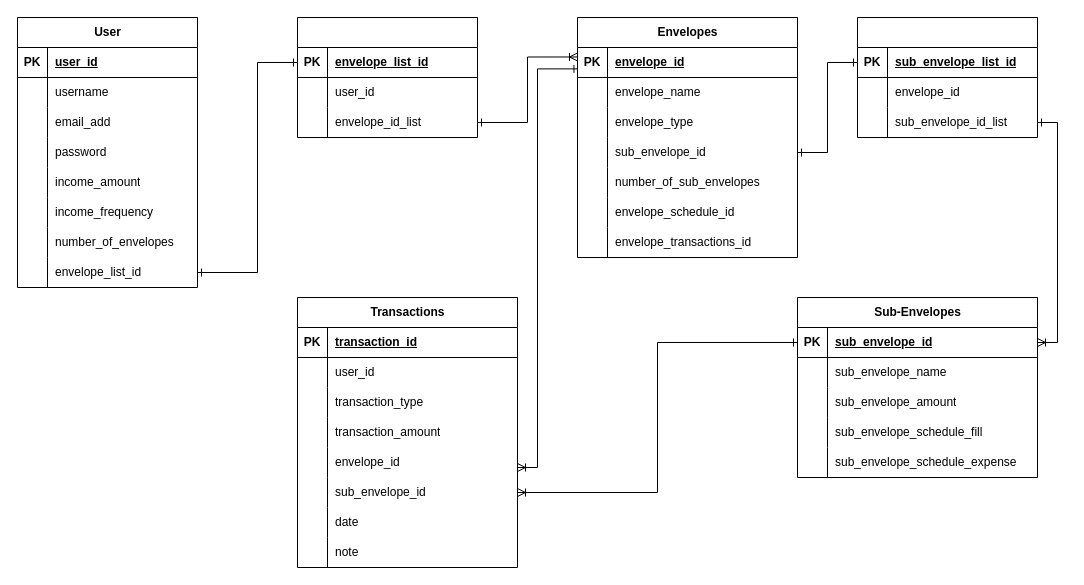
This 1084x585 diagram has some shape labels left out. The shapes that lost their labels are listed below. From the top down, each one's box as (x1, y1, x2, y2) in pixels, then its label:
(296, 16, 478, 138): User_Envelope_List
(856, 16, 1038, 138): Envelope_SubEnvelope_List
